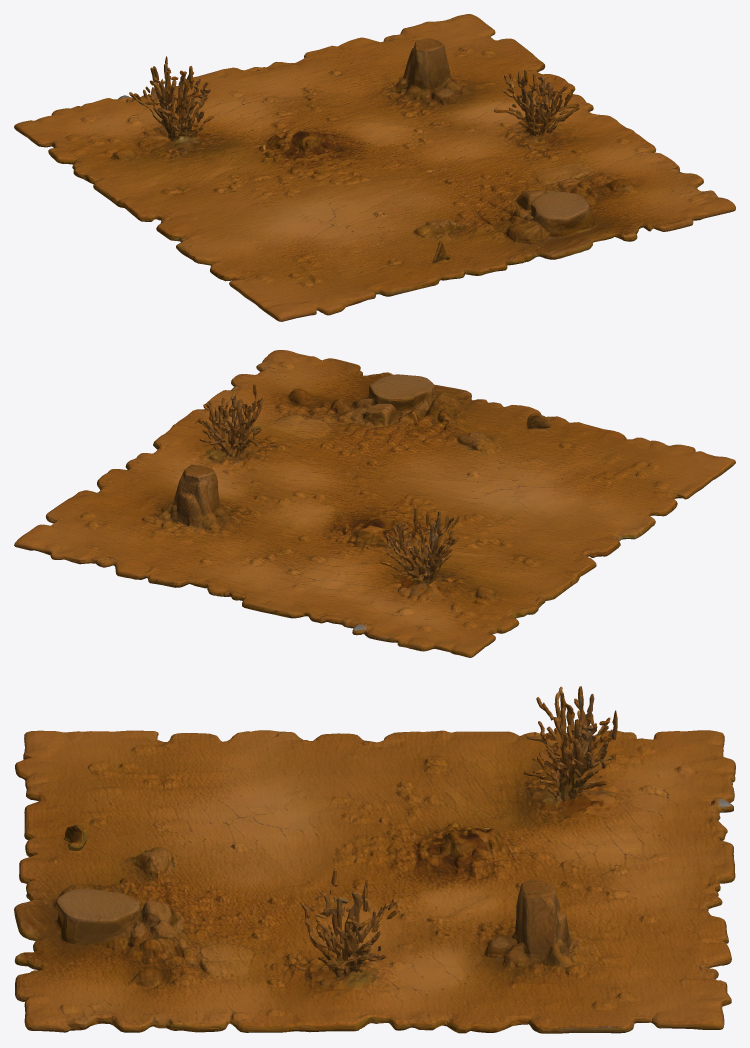
The model's file is desert-ground-4.glb.
3 views of the same model, one above another, from view 1: azimuth 30°, elevation 25°; view 2: azimuth 150°, elevation 25°; view 3: azimuth 270°, elevation 25° (orthographic). The views are drawn at different scales.
Parts seen in each view (by area): view 1: textured_mesh.obj; view 2: textured_mesh.obj; view 3: textured_mesh.obj.
Boxes of the visible parts, box(x1,y1,x2,y2) form: textured_mesh.obj: box(14, 14, 735, 321); textured_mesh.obj: box(14, 350, 735, 657); textured_mesh.obj: box(14, 686, 735, 1033).
Bounding box in the file's own units: 1.95 × 0.3319 × 1.99.
1 material, 1 textured.
